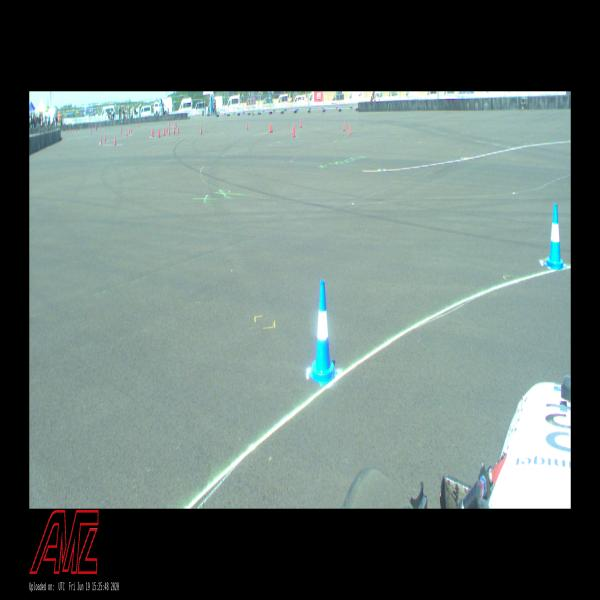blue_cone: (308, 281, 338, 386), (543, 204, 566, 268)
unknown_cone: (343, 120, 345, 131), (349, 124, 351, 135), (293, 126, 295, 137), (269, 122, 271, 132), (300, 119, 302, 128), (114, 136, 116, 145), (163, 128, 165, 136), (152, 129, 154, 137), (104, 134, 106, 141), (100, 137, 102, 144), (168, 128, 170, 134), (292, 124, 293, 134), (271, 122, 272, 132), (168, 121, 170, 126), (247, 121, 248, 130), (201, 126, 202, 134), (178, 126, 179, 134), (174, 126, 175, 134), (159, 129, 160, 137), (158, 129, 159, 136), (166, 126, 167, 132), (152, 129, 153, 135), (126, 130, 127, 136), (176, 122, 176, 129)
